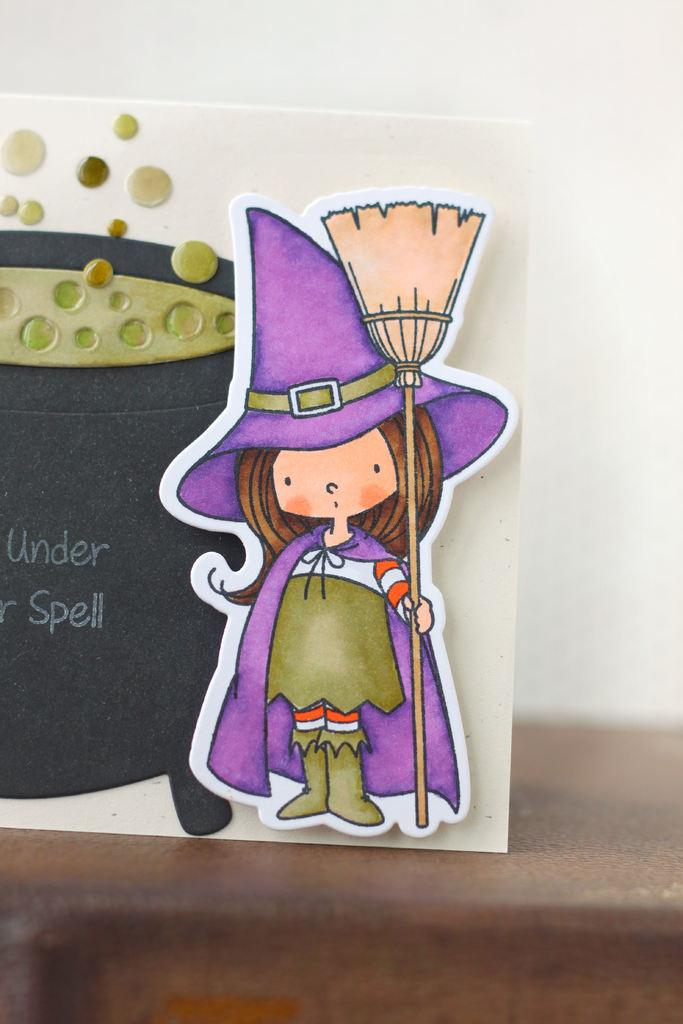Hat: (179, 206, 510, 526)
